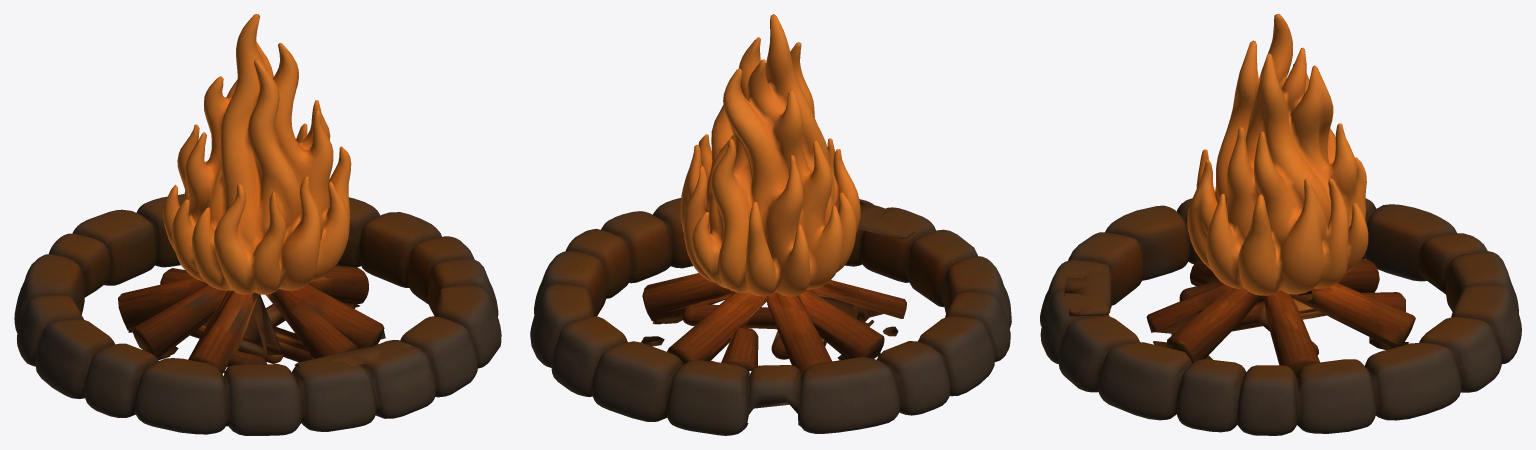
The model's file is a_campfire_pit_d78c4a95_v1.glb.
3 renders of one model, left to right at view 1: azimuth 30°, elevation 25°; view 2: azimuth 150°, elevation 25°; view 3: azimuth 270°, elevation 25°, orthographic.
Visible parts, largest first — view 1: material; view 2: material; view 3: material.
Boxes of the visible parts, x1,y1,x2,y2 form: material: (14,14,501,435); material: (530,14,1011,435); material: (1040,14,1521,435).
Size of the model in its own units: 1.9 by 1.41 by 1.9.
1 material, 1 textured.
